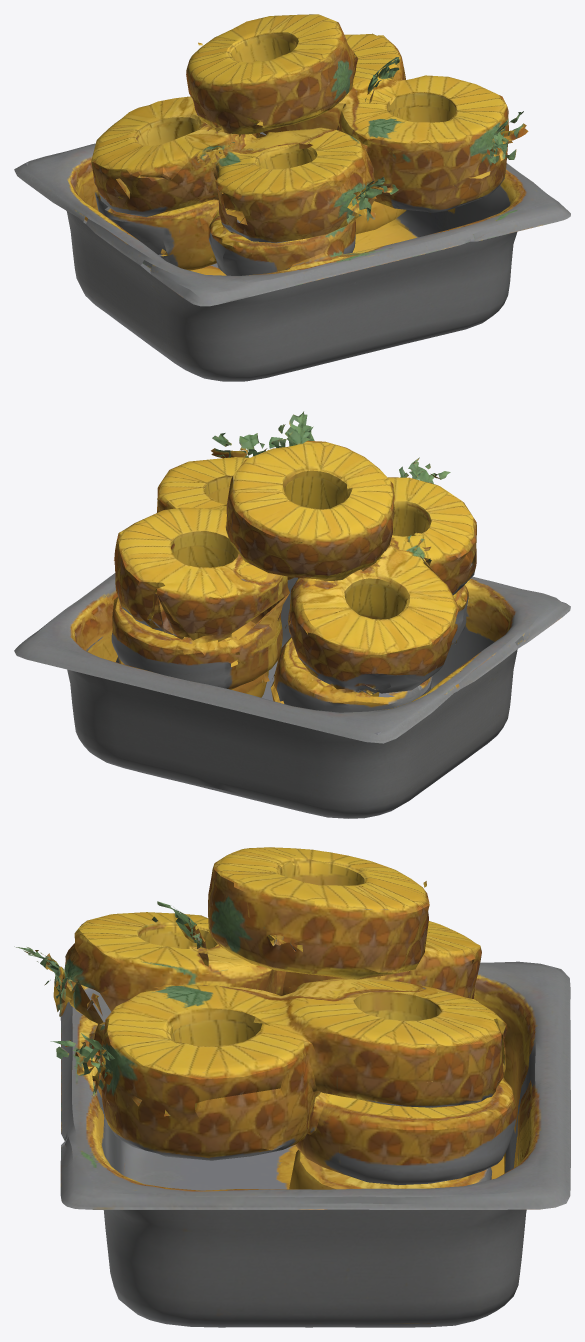
File: Meshy_AI_Geometric_Pineapple_S_0831085329_texture.fbx
3 renders of one model, top to bottom at view 1: azimuth 30°, elevation 25°; view 2: azimuth 150°, elevation 25°; view 3: azimuth 270°, elevation 25°, orthographic. The views are drawn at different scales.
Parts seen in each view (by area): view 1: Mesh0; view 2: Mesh0; view 3: Mesh0.
Part boxes in pixels (left/top/right/bottom): Mesh0: left=14, top=14, right=570, bottom=381; Mesh0: left=14, top=411, right=570, bottom=818; Mesh0: left=14, top=847, right=570, bottom=1327.
Size of the model in its own units: 190 by 134 by 183.
1 material, 1 textured.
